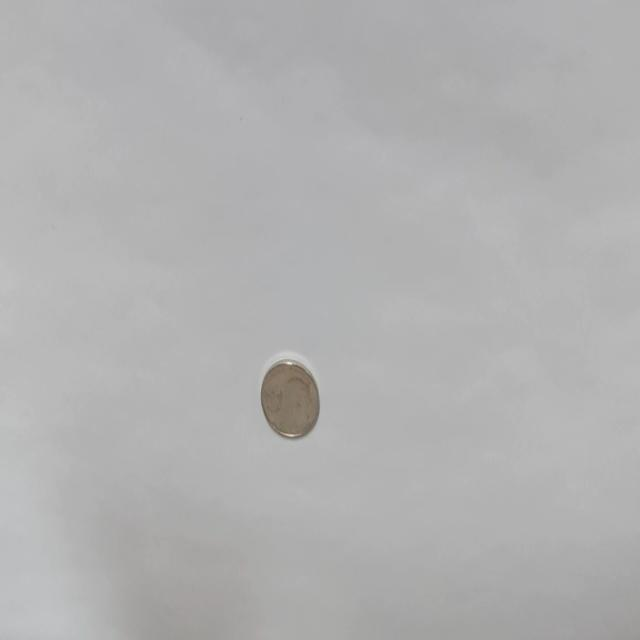seribu rupiah koin: (259, 354, 320, 440)
